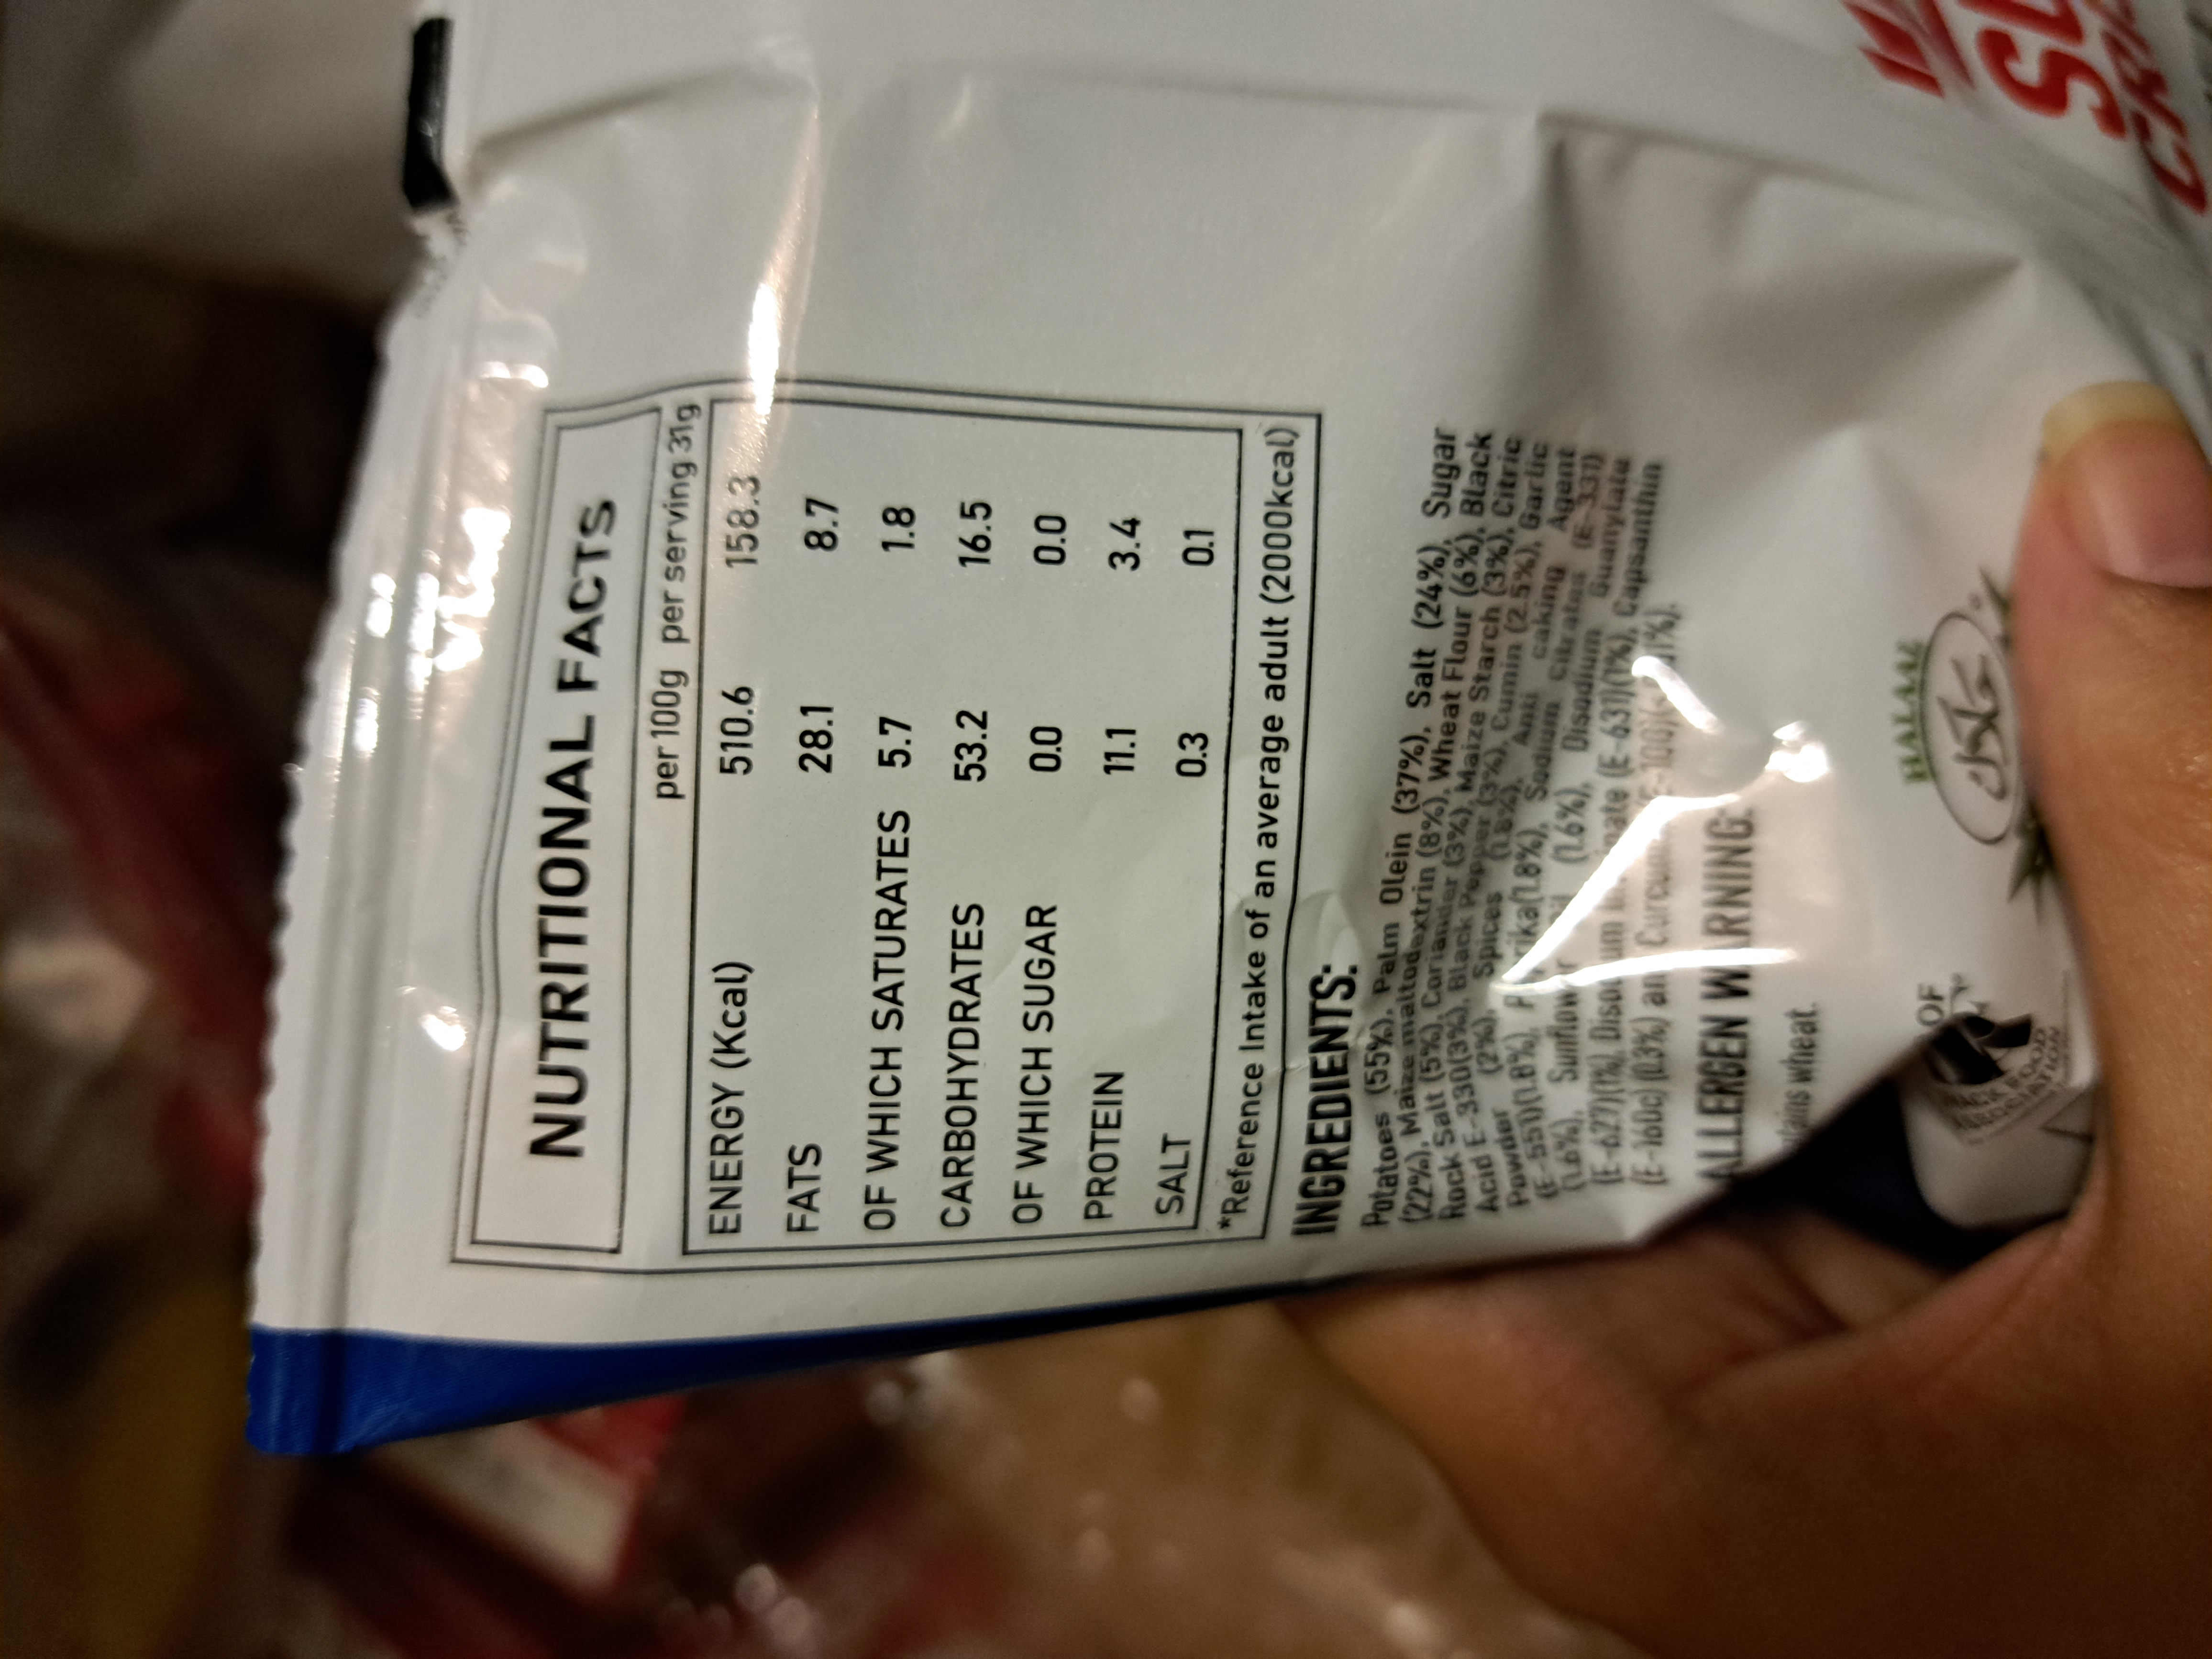table: (444, 357, 1315, 1270)
